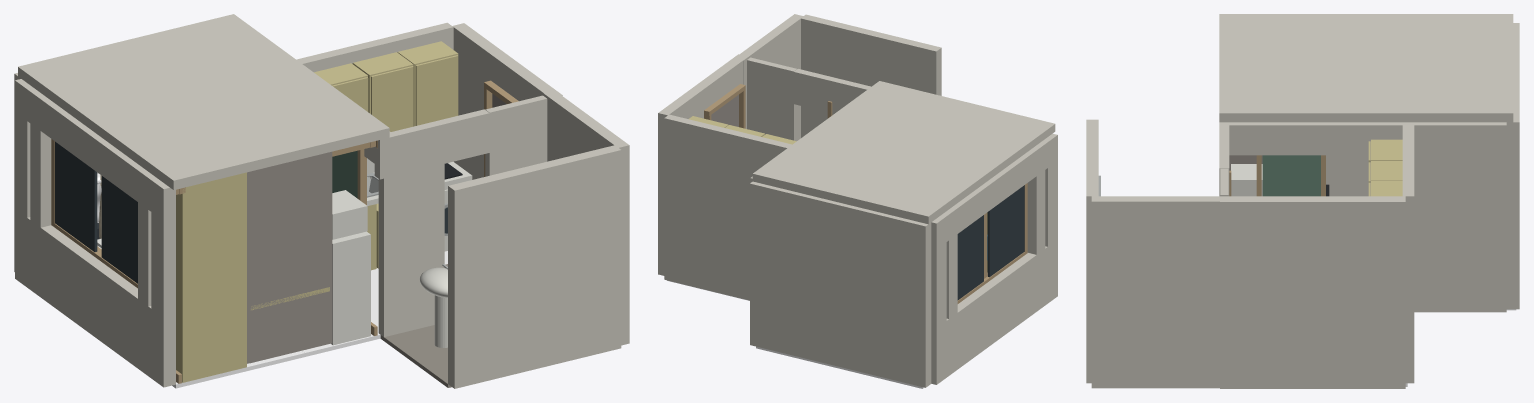
Rendered from Home_Reconstruction.glb.
3 views of the same model, side by side, from view 1: azimuth 30°, elevation 25°; view 2: azimuth 150°, elevation 25°; view 3: azimuth 270°, elevation 25° (orthographic). The views are drawn at different scales.
Parts seen in each view (by area): view 1: Ceiling removable for plan, Bathroom west wall, Desk niche back, Wardrobe carcass, Bathroom doorway return wall, Window sill wall, West wall end return, Entry back wall, Bathroom rear wall, Window lintel, Compact white refrigerator, Bathroom divider south section (+19 smaller); view 2: Plain wall behind headboard, Ceiling removable for plan, Kitchen east wall, Bathroom west wall, Window sill wall, Bathroom divider south section, Entry back wall, Window lintel, West wall end return.001, Dark frosted window pane, Bathroom rear wall, Bathroom doorway lintel (+6 smaller); view 3: Entry back wall, Ceiling removable for plan, Bathroom rear wall, East living wall, Entry opening header, Plain wall behind headboard, Kitchen east wall, Frosted green partition glass, Bathroom west wall, Microwave body, Overhead yellow cabinet.002, Overhead yellow cabinet.001 (+2 smaller).
Boxes of the visible parts, x1,y1,x2,y2 form: Ceiling removable for plan: (18,14,389,189); Bathroom west wall: (448,145,621,388); Desk niche back: (250,151,331,363); Wardrobe carcass: (176,172,246,382); Bathroom doorway return wall: (378,121,444,336); Window sill wall: (27,217,151,378); West wall end return: (151,179,175,387); Entry back wall: (452,23,562,179); Bathroom rear wall: (544,91,629,345); Window lintel: (27,88,157,211); Compact white refrigerator: (331,231,370,345); Bathroom divider south section: (485,95,547,176); Plain wall behind headboard: (750,181,931,387); Ceiling removable for plan: (752,81,1055,224); Kitchen east wall: (664,114,791,300); Bathroom west wall: (801,14,941,137); Window sill wall: (946,246,1047,377); Bathroom divider south section: (747,57,797,141); Entry back wall: (658,54,747,275); Window lintel: (942,141,1047,241); West wall end return.001: (931,215,946,384); Dark frosted window pane: (987,185,1024,277); Bathroom rear wall: (735,14,803,140); Bathroom doorway lintel: (793,69,870,113); Entry back wall: (1220,196,1405,388); Ceiling removable for plan: (1219,14,1513,122); Bathroom rear wall: (1091,196,1229,388); East living wall: (1329,122,1506,312); Entry opening header: (1226,122,1329,155); Plain wall behind headboard: (1506,23,1519,309); Kitchen east wall: (1402,125,1414,383); Frosted green partition glass: (1262,155,1320,196); Bathroom west wall: (1086,119,1098,383); Microwave body: (1231,164,1262,196); Overhead yellow cabinet.002: (1371,139,1402,160); Overhead yellow cabinet.001: (1371,160,1402,180).
Bounding box in the file's own units: 5.22 × 2.67 × 5.26.
